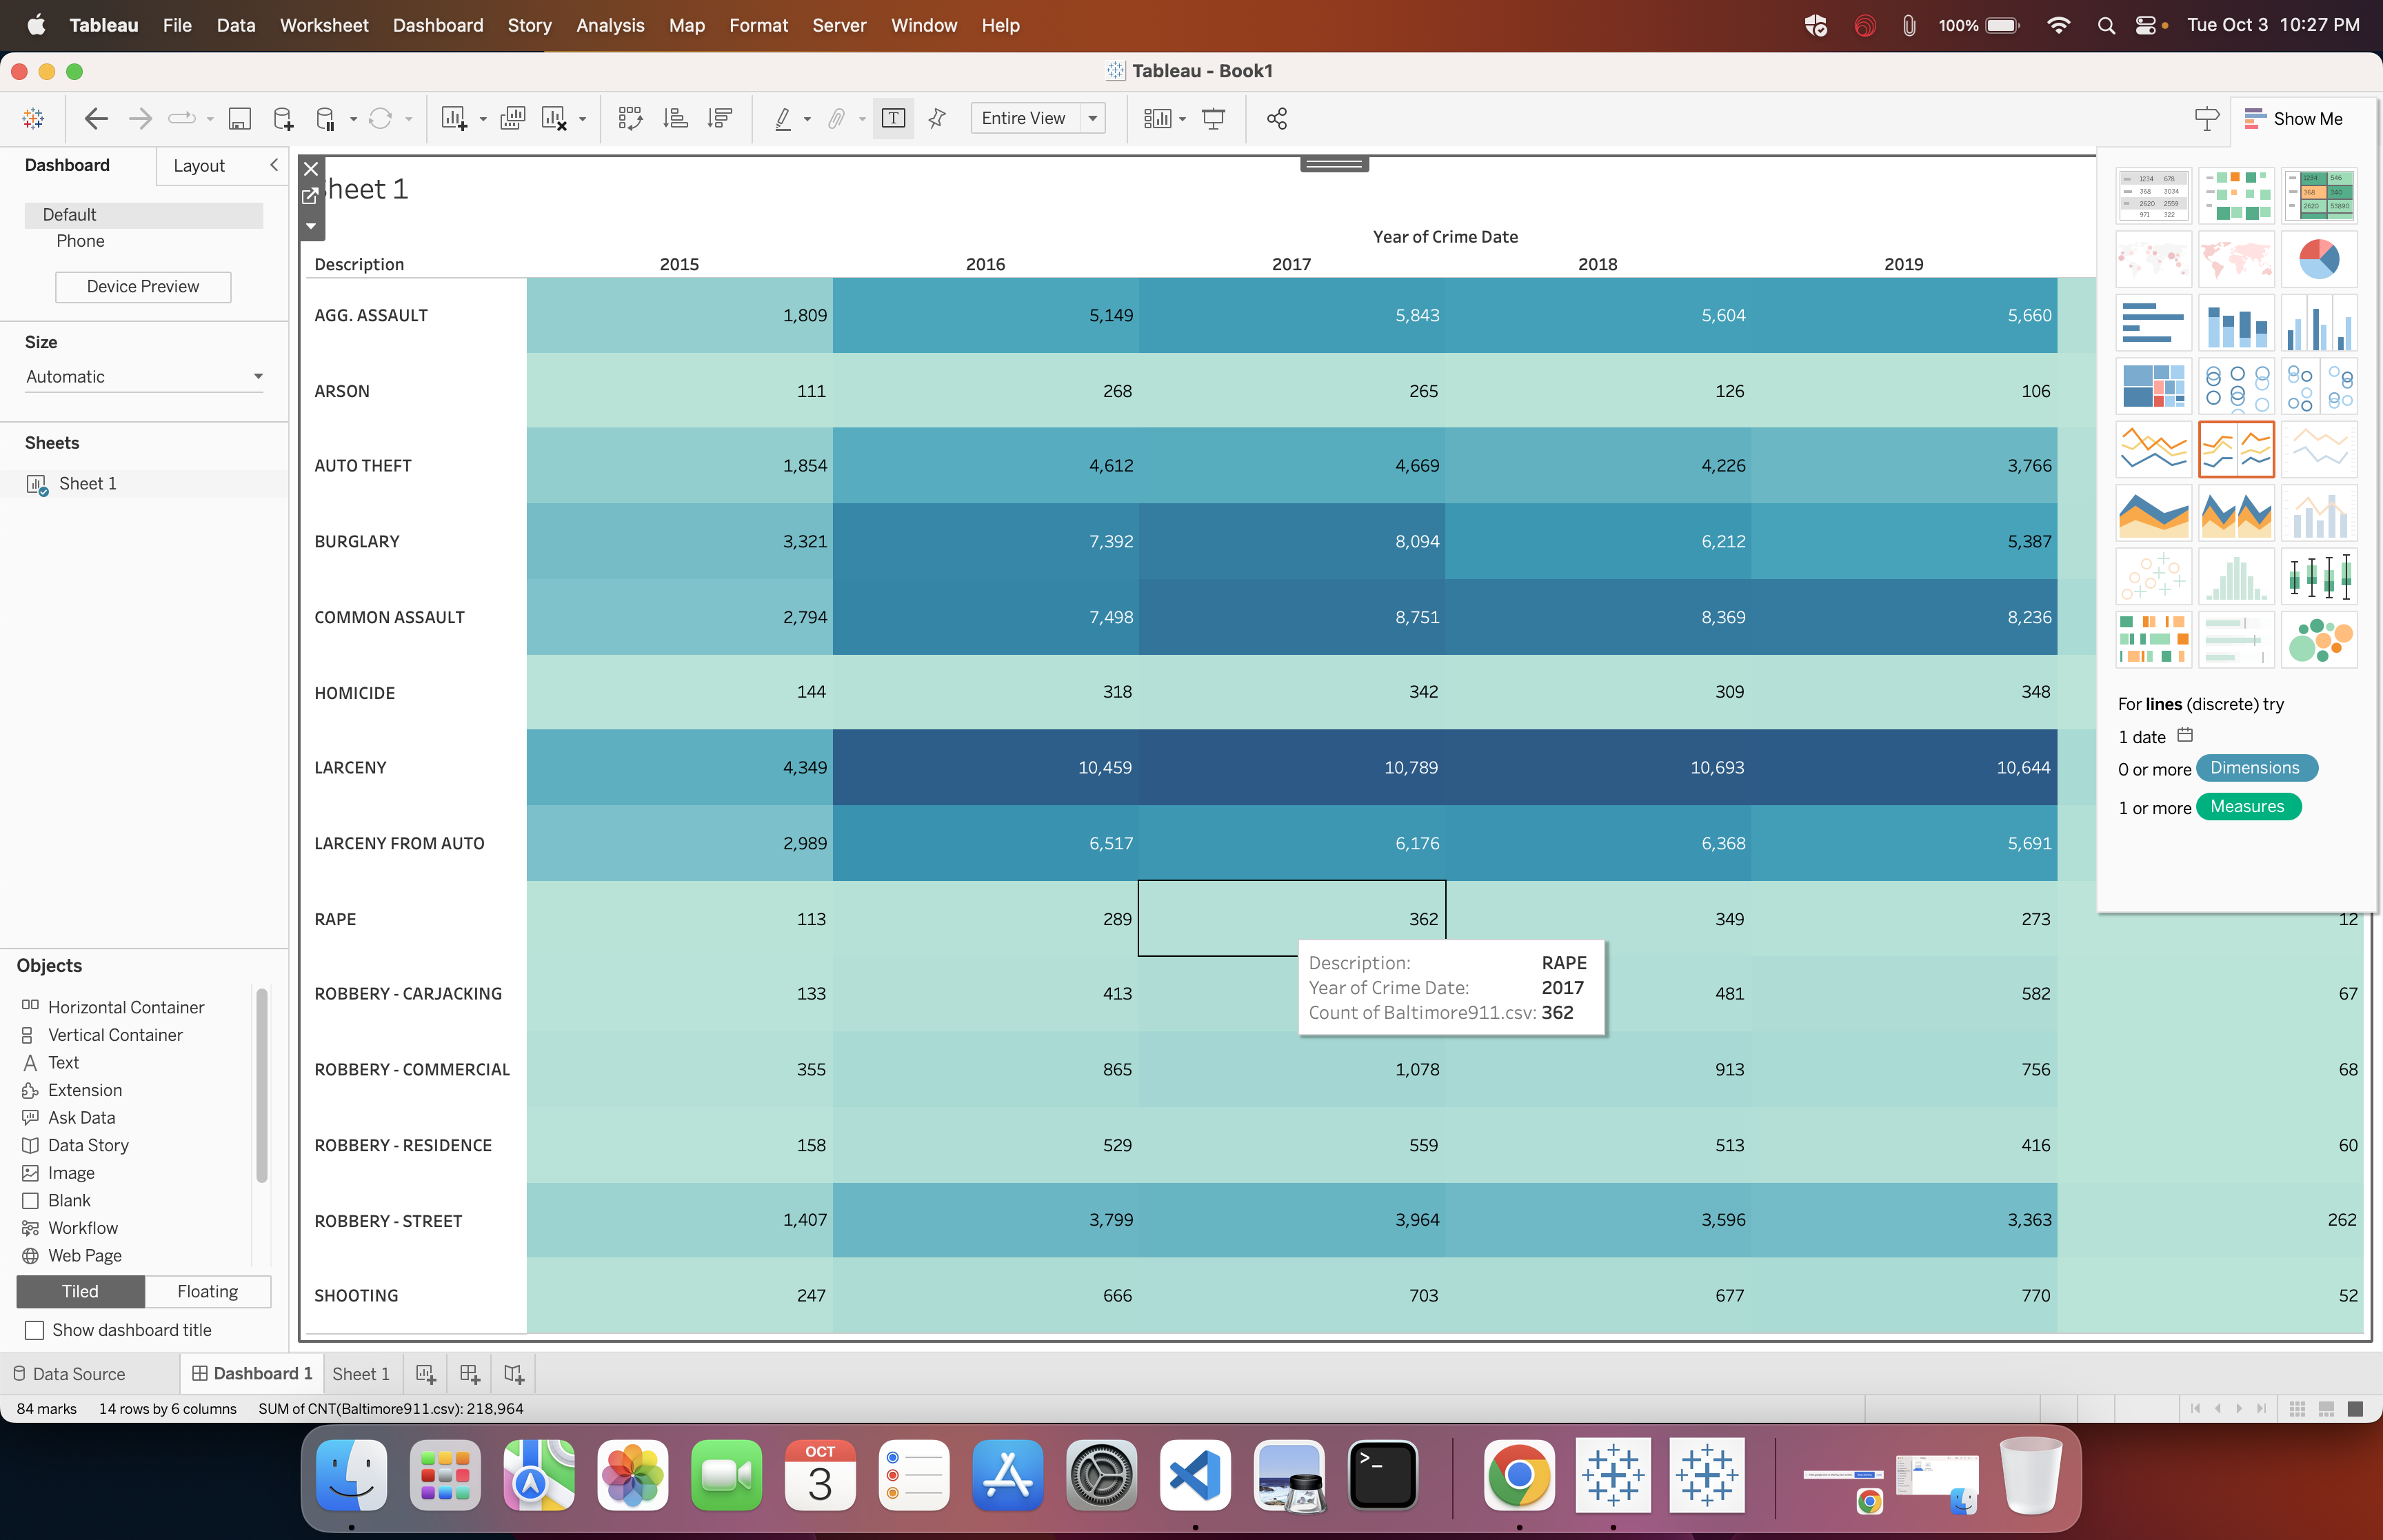

The page's visual inventory and layout, read from the dashboard file:
{"tool":"tableau","page":{"name":"Dashboard 1","canvas":[1000,1000],"units":"permille","ordinal":0},"visuals":[{"type":"worksheet","title":"Sheet 1","mark":"Circle","rows":["Baltimore911.csv_D21EA5A1DF394CF2B379596E421D5C13"],"cols":["CrimeDate"],"box":[5.3,9.2,989.5,981.7]}]}

Visuals, with their boxes on the dashboard's canvas, which has no fixed pixel size, in thousandths of its width and height (x1, y1, x2, y2). These are canvas units, not pixel positions in the 2383x1540 screenshot, which may show the page scaled, cropped or inside an application window:
"Sheet 1" worksheet (Circle marks): crop(5, 9, 995, 991)
